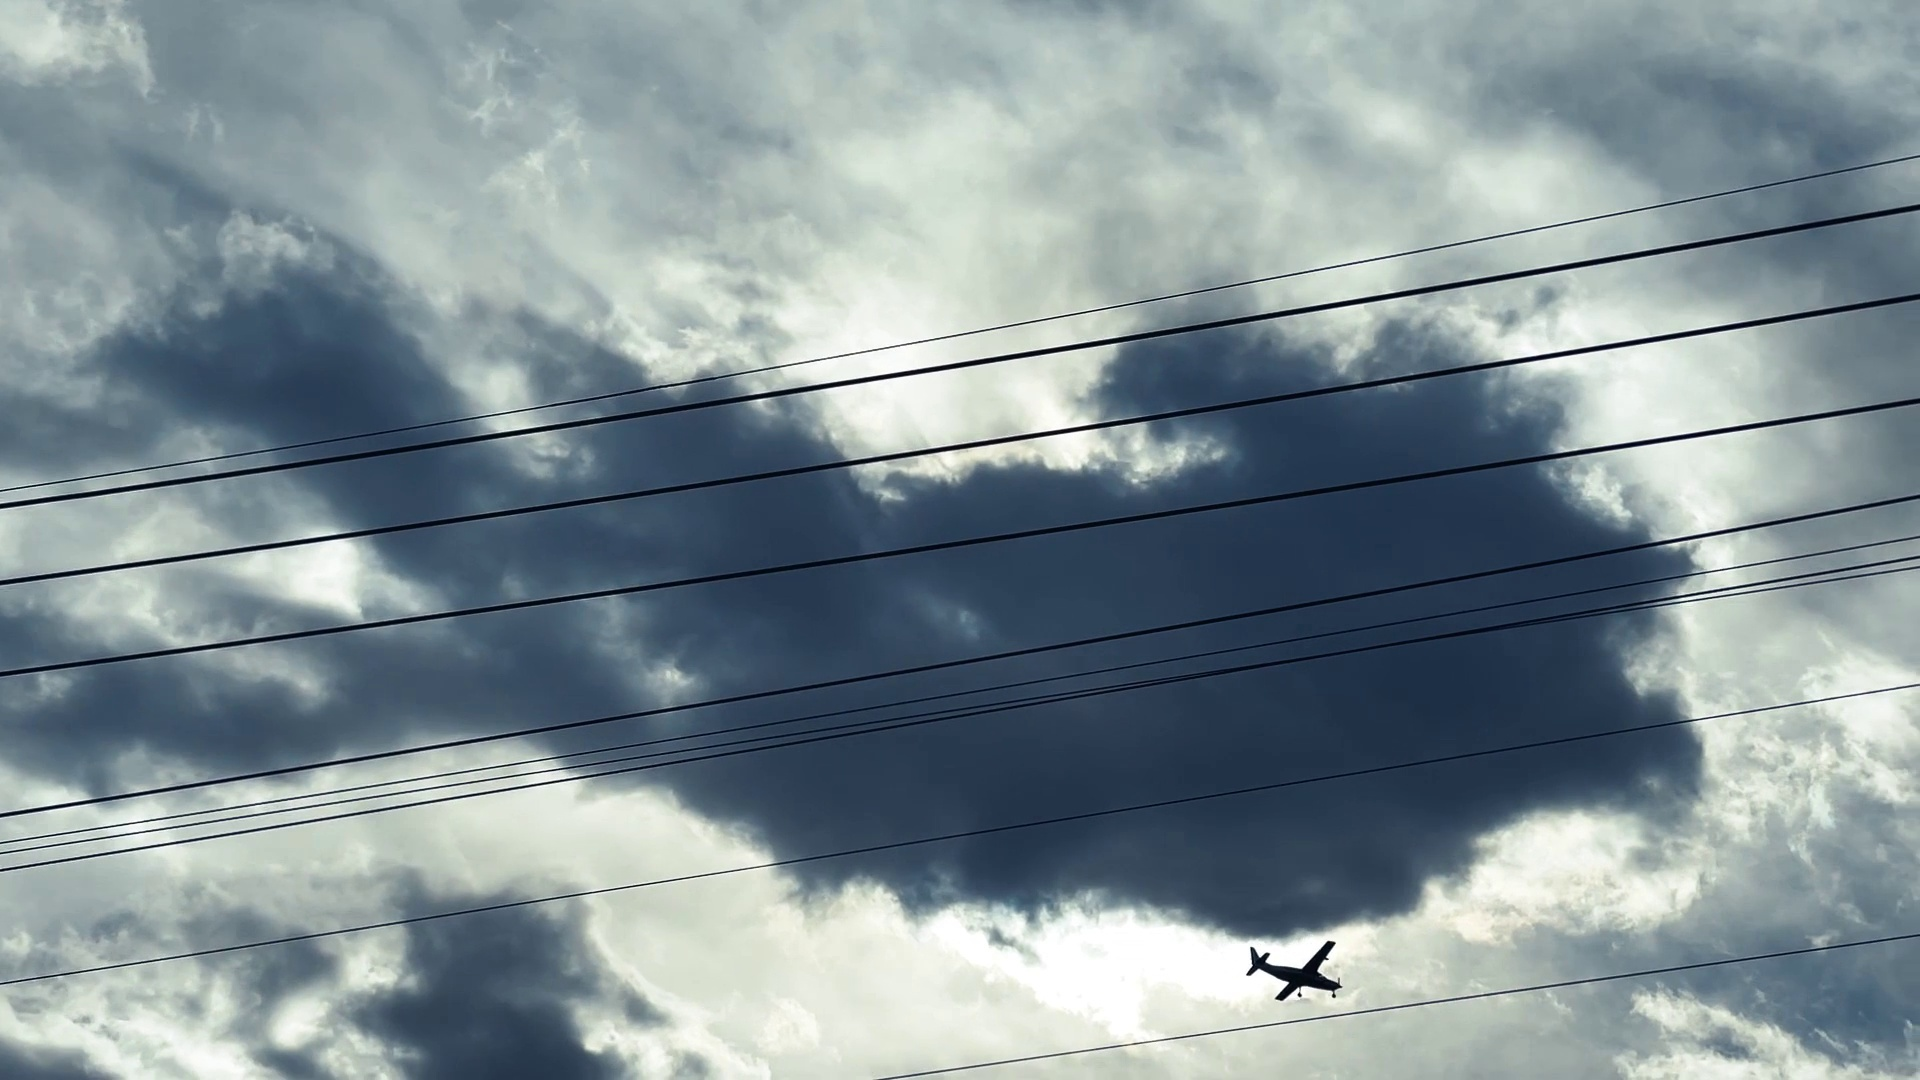plane: (1247, 940, 1344, 1001)
